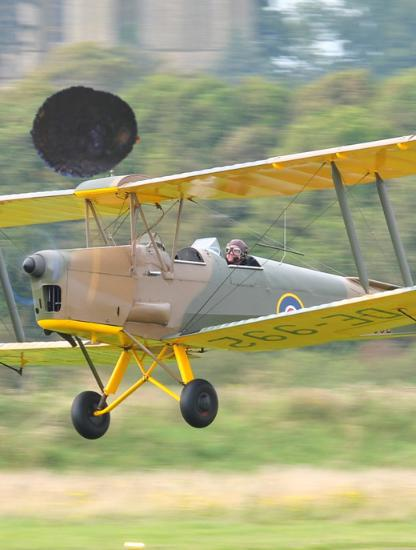Avocado: (30, 77, 141, 188)
